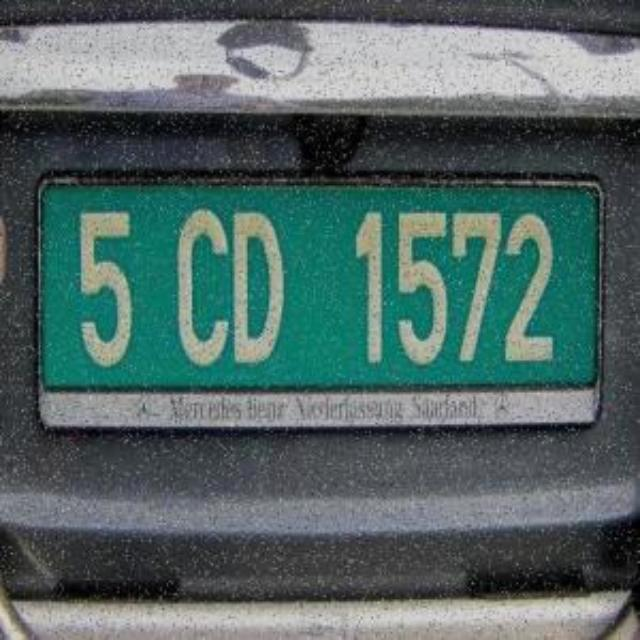License Plate: (36, 172, 604, 424)
